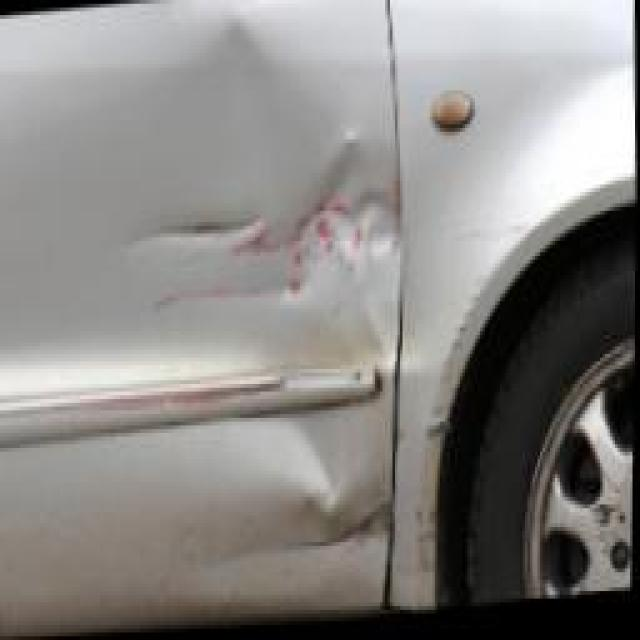Door: (0, 11, 390, 619)
Fender: (388, 147, 563, 599)
